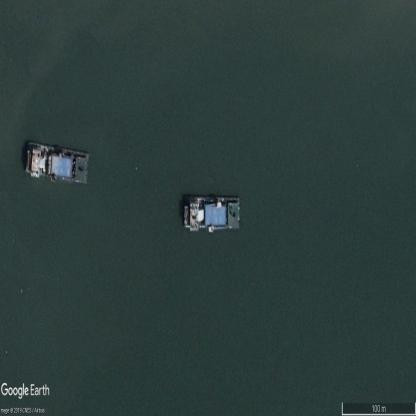ship: (25, 142, 89, 185), (183, 188, 240, 232)
